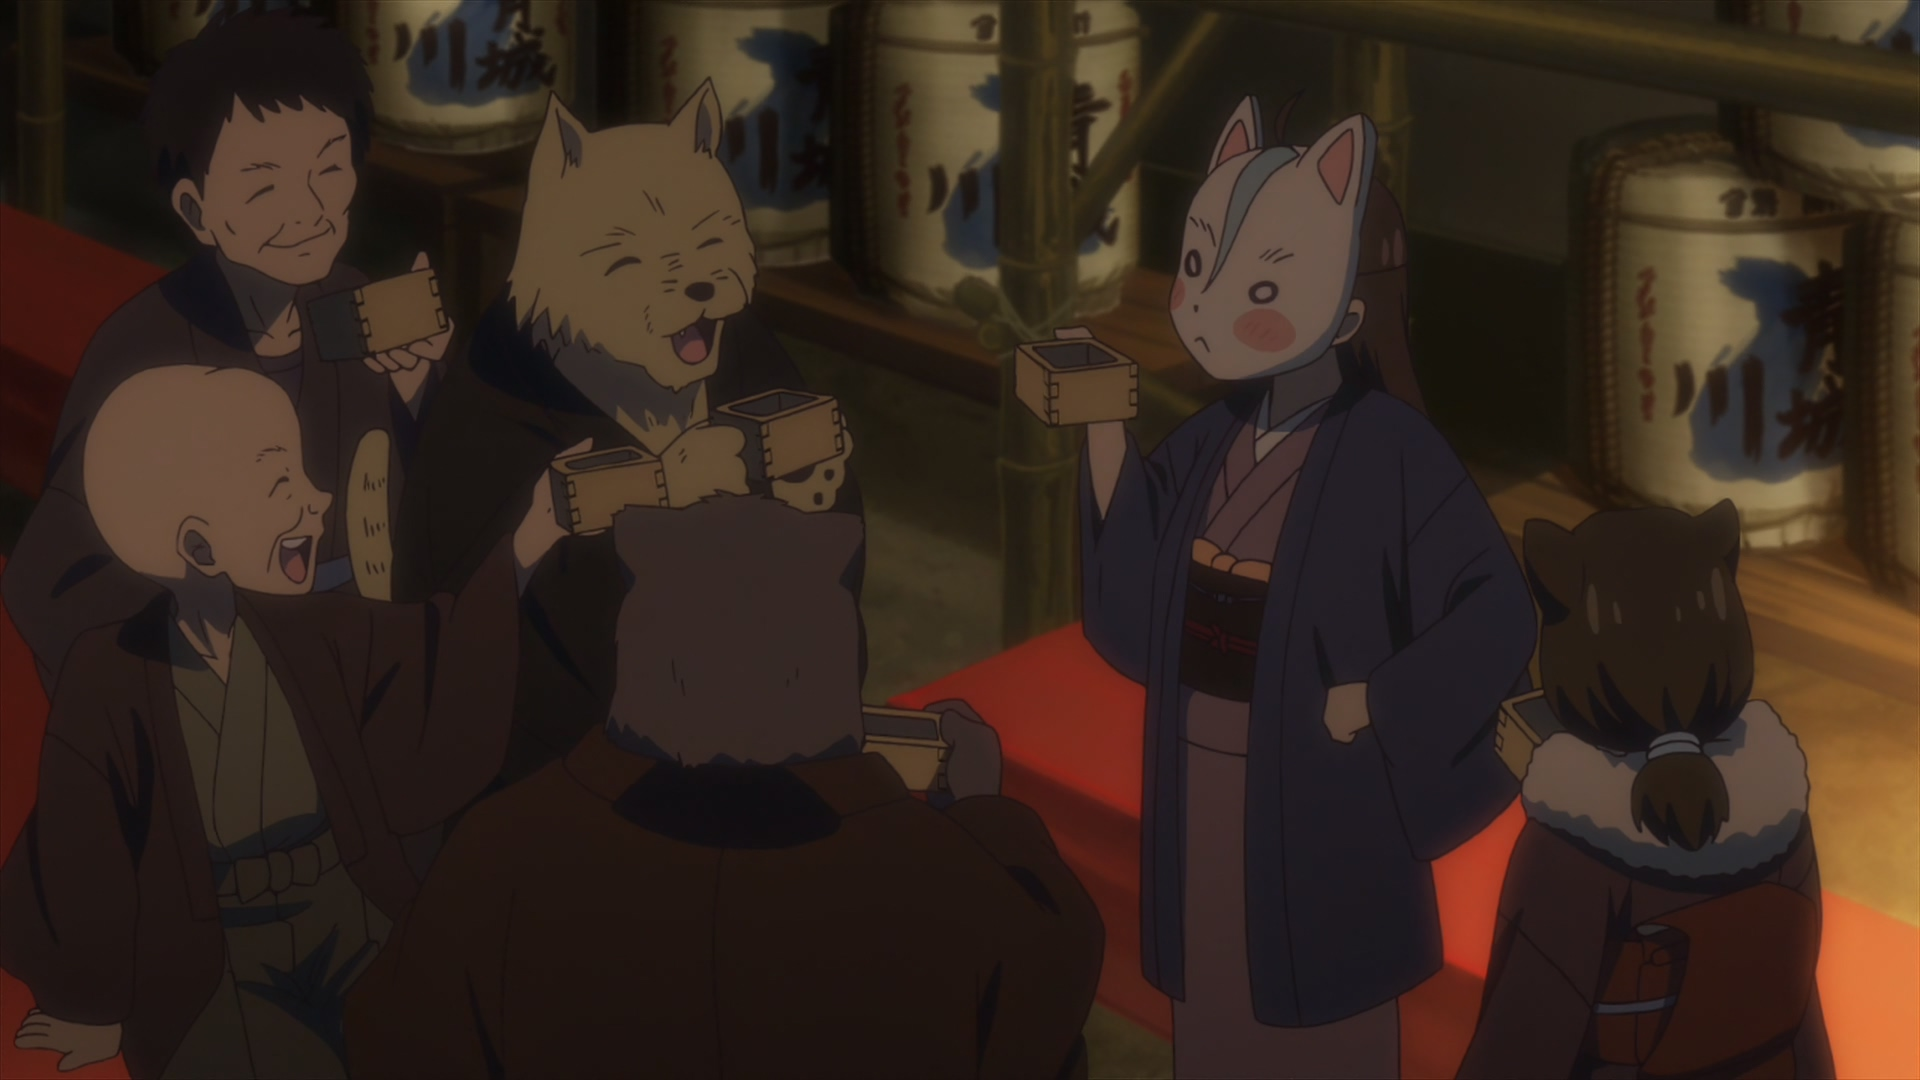其他: (1052, 95, 1539, 1080), (339, 491, 1105, 1080), (1, 365, 609, 1080), (393, 78, 866, 857), (1, 1, 458, 712), (1455, 498, 1837, 1080)
